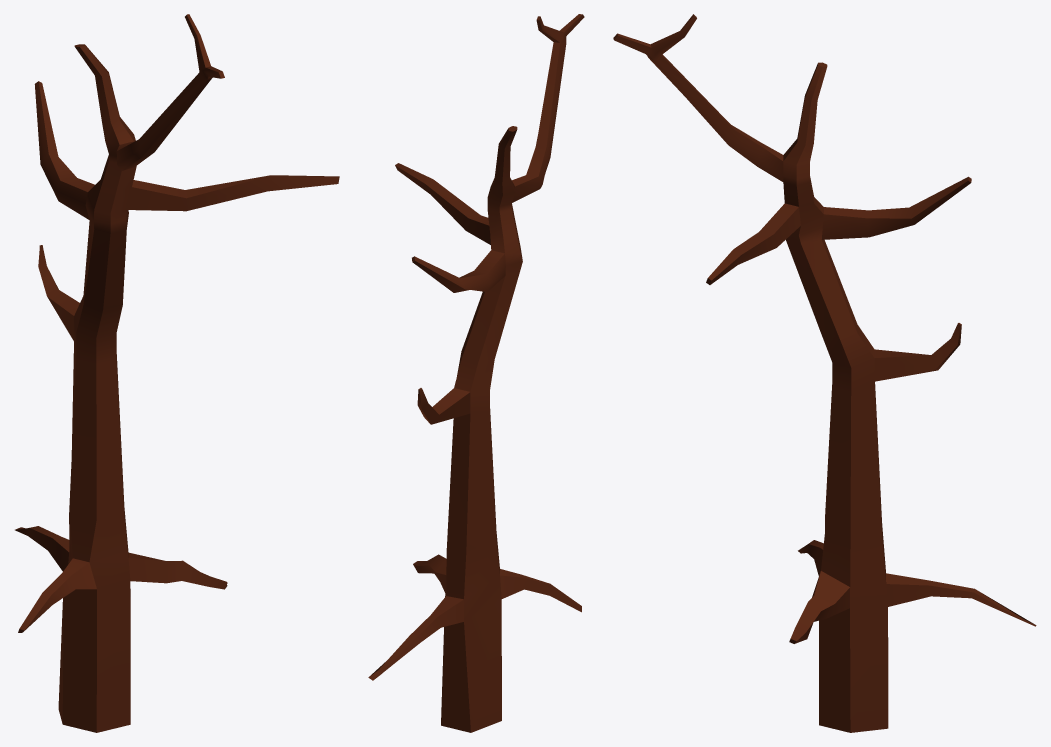
The model's file is dead_tree.obj.
The picture shows the model from 3 angles, left to right: view 1: azimuth 30°, elevation 25°; view 2: azimuth 150°, elevation 25°; view 3: azimuth 270°, elevation 25°; orthographic projection. The views are drawn at different scales.
Size of the model in its own units: 4.66 by 12.55 by 6.79.
